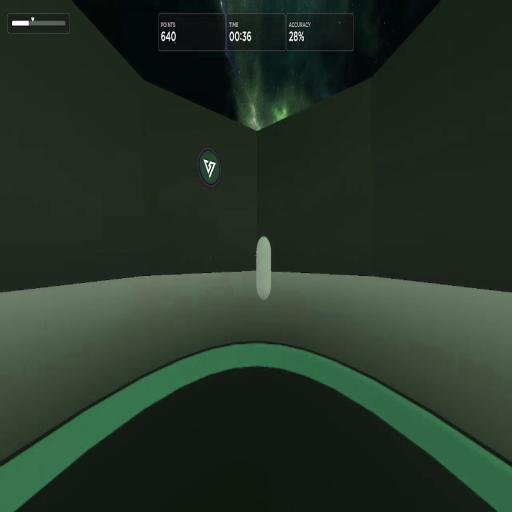Crosshair: (256, 254, 258, 258)
Target: (257, 235, 271, 301)
